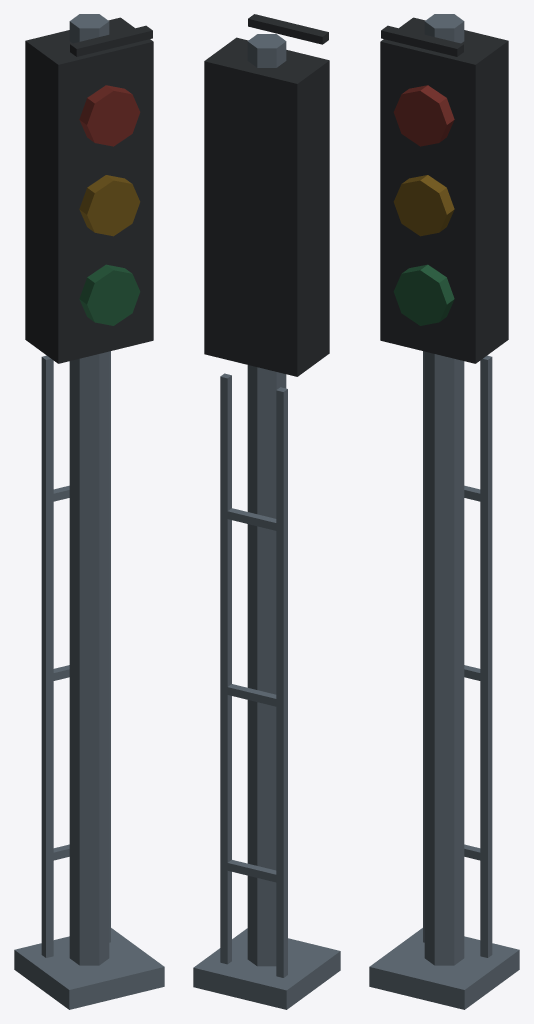
Rendered from signal.glb.
The picture shows the model from 3 angles, left to right: view 1: azimuth 30°, elevation 25°; view 2: azimuth 150°, elevation 25°; view 3: azimuth 330°, elevation 25°; orthographic projection. The views are drawn at different scales.
Visible parts, largest first — view 1: Body, Red, Green, Amber; view 2: Body; view 3: Body, Red, Green, Amber.
Part boxes in pixels (x1,y1,x2,y2): Body: (14, 14, 164, 1009); Red: (79, 85, 140, 146); Green: (79, 264, 140, 325); Amber: (79, 175, 140, 236); Body: (193, 14, 340, 1009); Body: (369, 14, 519, 1009); Red: (393, 85, 454, 146); Green: (393, 264, 454, 325); Amber: (393, 175, 454, 236).
Bounding box in the file's own units: 0.5 × 4.8 × 0.5.
